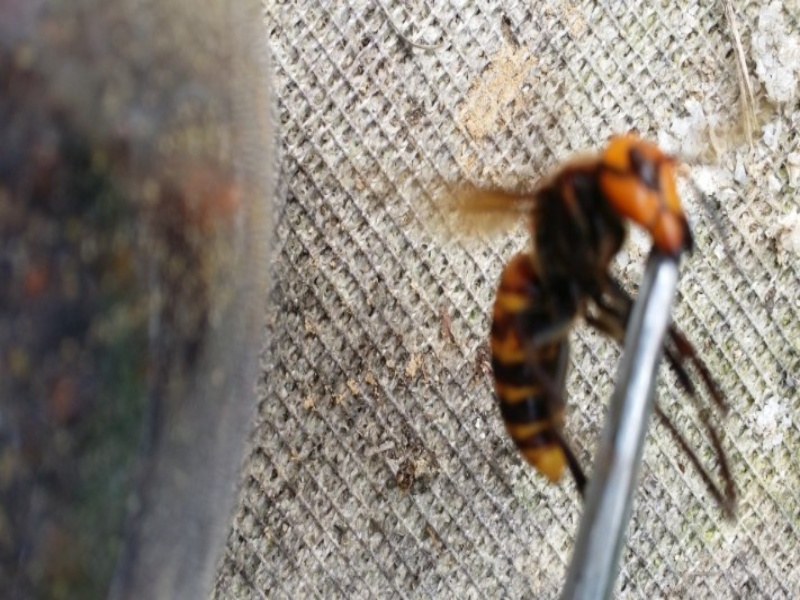asian_giant_hornet: (486, 130, 693, 495)
